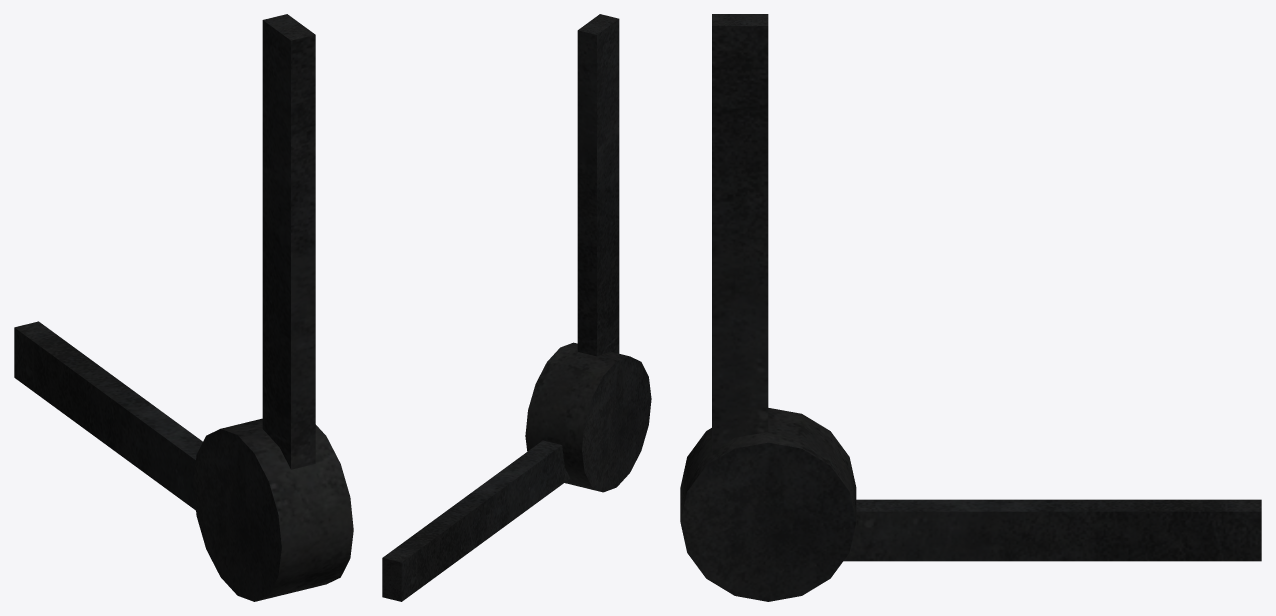
The model's file is p_jun_windowbend_lod0.glb.
3 views of the same model, side by side, from view 1: azimuth 30°, elevation 25°; view 2: azimuth 150°, elevation 25°; view 3: azimuth 270°, elevation 25° (orthographic). The views are drawn at different scales.
Parts seen in each view (by area): view 1: surf0; view 2: surf0; view 3: surf0.
Part boxes in pixels (box(x1,y1,x2,y2)): surf0: box(14, 14, 353, 601); surf0: box(382, 14, 651, 601); surf0: box(680, 14, 1261, 601).
Bounding box in the file's own units: 1.5 × 11.35 × 10.57.
